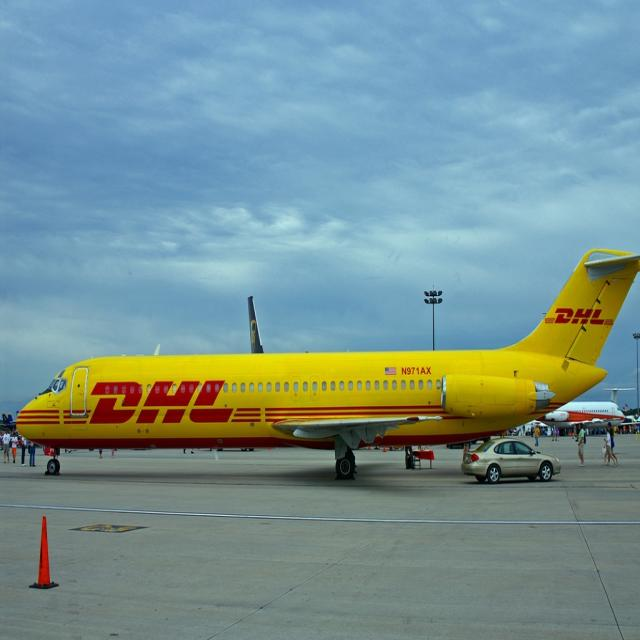dhl: (61, 377, 265, 431), (545, 302, 618, 332)
